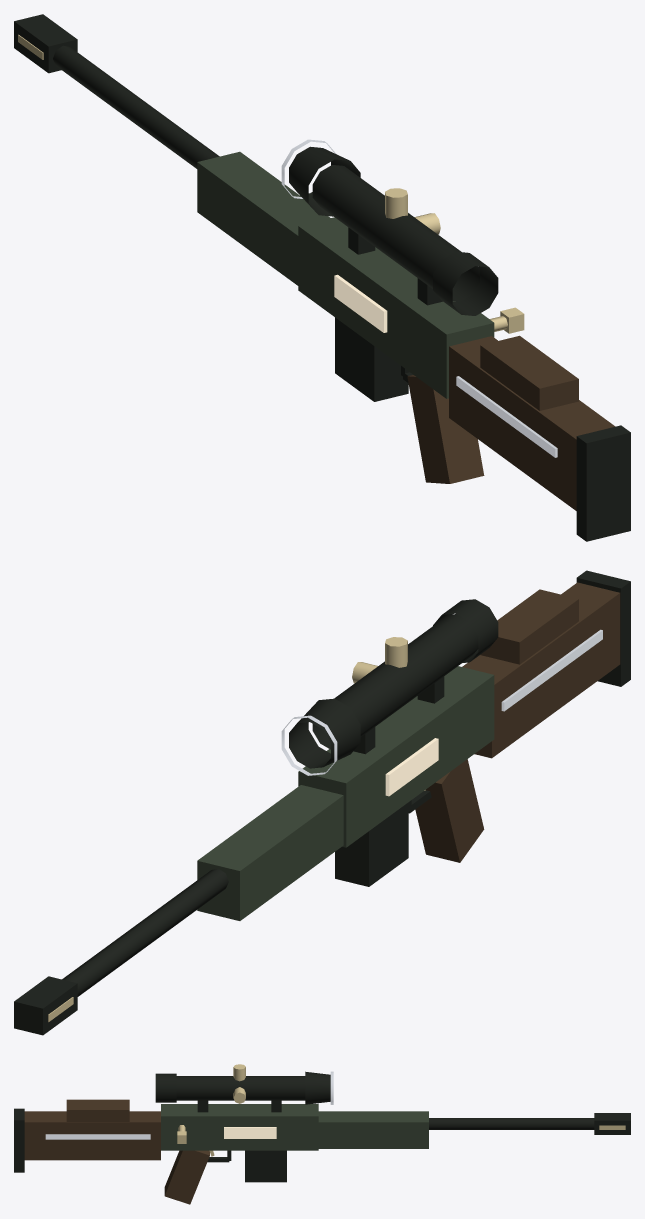
Rendered from BO_SK_Weapon_Sniper_v001.glb.
3 views of the same model, one above another, from view 1: azimuth 30°, elevation 25°; view 2: azimuth 150°, elevation 25°; view 3: azimuth 270°, elevation 25° (orthographic). The views are drawn at different scales.
Visible parts, largest first — view 1: body_000, body_021, body_001, body_007, body_023, body_017, body_022, body_002, body_016, body_009, body_003, body_008 (+2 smaller); view 2: body_000, body_001, body_021, body_007, body_017, body_002, body_022, body_016, body_008, body_003, body_023, body_009 (+3 smaller); view 3: body_000, body_021, body_001, body_007, body_002, body_017, body_022, body_016, body_008, body_023, body_003, body_009 (+2 smaller).
Part boxes in pixels (left/top/right/bottom): body_000: left=298, top=217, right=494, bottom=398; body_021: left=449, top=336, right=615, bottom=510; body_001: left=197, top=151, right=330, bottom=285; body_007: left=312, top=165, right=479, bottom=301; body_023: left=576, top=425, right=630, bottom=541; body_017: left=407, top=375, right=484, bottom=483; body_022: left=480, top=335, right=578, bottom=410; body_002: left=53, top=45, right=219, bottom=168; body_016: left=335, top=317, right=408, bottom=401; body_009: left=433, top=251, right=498, bottom=315; body_003: left=14, top=14, right=77, bottom=73; body_008: left=289, top=146, right=360, bottom=216; body_000: left=298, top=666, right=494, bottom=847; body_001: left=197, top=785, right=343, bottom=920; body_021: left=462, top=582, right=620, bottom=758; body_007: left=312, top=614, right=478, bottom=749; body_017: left=415, top=759, right=484, bottom=862; body_002: left=62, top=868, right=228, bottom=996; body_022: left=480, top=589, right=578, bottom=664; body_016: left=335, top=802, right=408, bottom=886; body_008: left=289, top=698, right=360, bottom=768; body_003: left=14, top=976, right=77, bottom=1035; body_023: left=576, top=570, right=630, bottom=686; body_009: left=433, top=599, right=498, bottom=662; body_000: left=161, top=1104, right=318, bottom=1150; body_021: left=24, top=1111, right=160, bottom=1160; body_001: left=318, top=1111, right=428, bottom=1148; body_007: left=176, top=1076, right=305, bottom=1100; body_002: left=429, top=1118, right=594, bottom=1129; body_017: left=164, top=1150, right=209, bottom=1204; body_022: left=66, top=1099, right=129, bottom=1121; body_016: left=245, top=1150, right=286, bottom=1182; body_008: left=305, top=1071, right=330, bottom=1104; body_023: left=14, top=1108, right=24, bottom=1172; body_003: left=594, top=1113, right=630, bottom=1134; body_009: left=155, top=1073, right=176, bottom=1102.
Size of the model in its own units: 0.113 by 0.2806 by 1.17.
